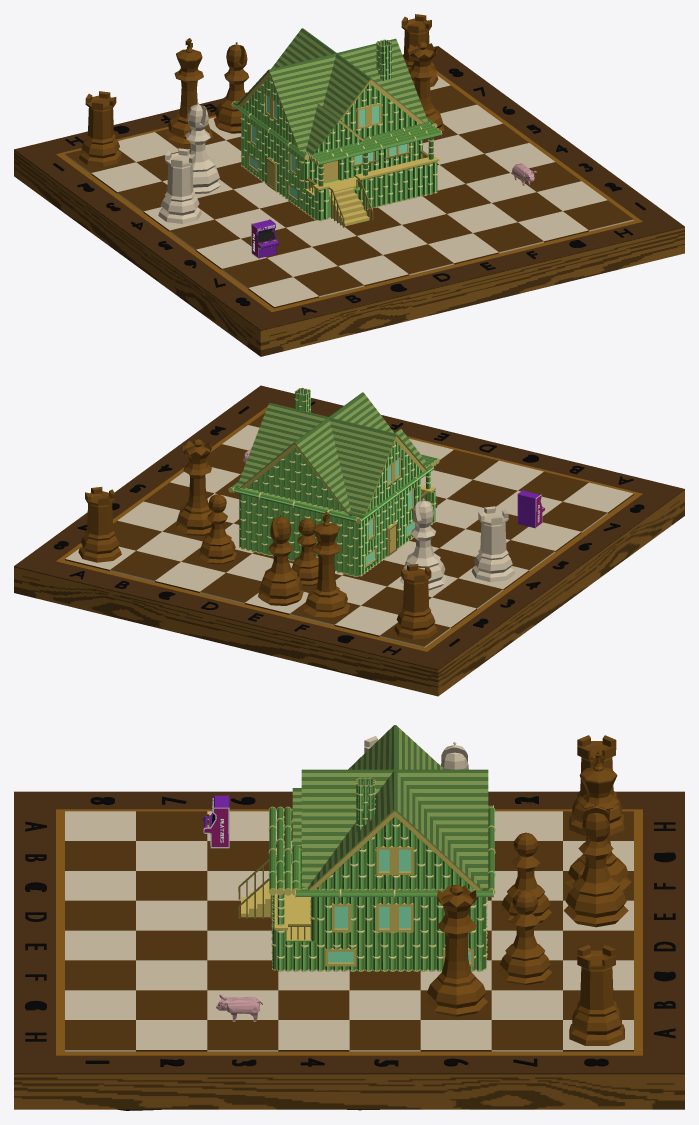
3 views of the same model, one above another, from view 1: azimuth 30°, elevation 25°; view 2: azimuth 150°, elevation 25°; view 3: azimuth 270°, elevation 25° (orthographic). The views are drawn at different scales.
Parts seen in each view (by area): view 1: Cube.002, Cube.1327, OBJRANDOM_ARCADE; view 2: Cube.002, Cube.1327, OBJRANDOM_ARCADE; view 3: Cube.002, Cube.1327, OBJRANDOM_ARCADE, ANIMAL_CERDO.
Boxes of the visible parts, x1,y1,x2,y2 form: Cube.002: [14, 14, 684, 356]; Cube.1327: [231, 28, 442, 227]; OBJRANDOM_ARCADE: [251, 219, 279, 258]; Cube.002: [14, 385, 684, 696]; Cube.1327: [228, 387, 439, 576]; OBJRANDOM_ARCADE: [517, 490, 545, 528]; Cube.002: [14, 735, 684, 1109]; Cube.1327: [238, 725, 495, 971]; OBJRANDOM_ARCADE: [203, 795, 229, 848]; ANIMAL_CERDO: [216, 994, 262, 1021].
Bounding box in the file's own units: 3981 × 1466 × 4012.
Materials: 29 (3 with a texture image).
